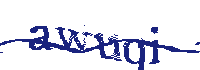a: (28, 22, 51, 54)
i: (148, 25, 163, 66)
q: (124, 37, 148, 70)
u: (96, 31, 122, 62)
w: (57, 22, 89, 56)
